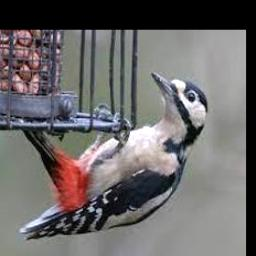Woodpecker: (20, 71, 209, 240)
